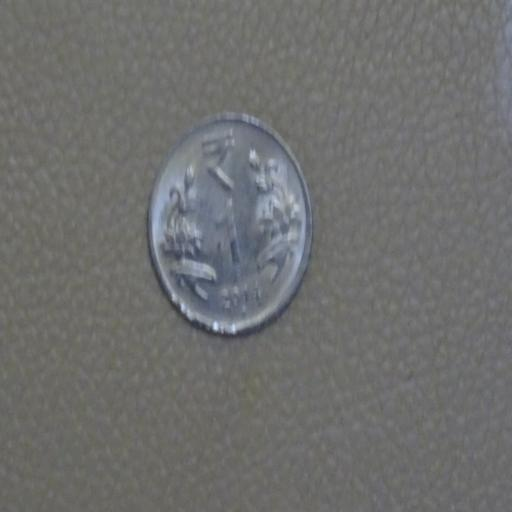rupee1: (146, 115, 312, 334)
